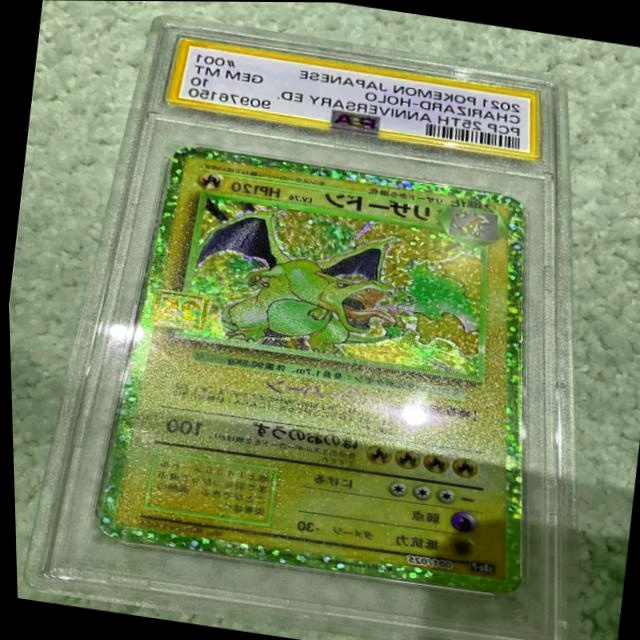card: (89, 144, 525, 593)
